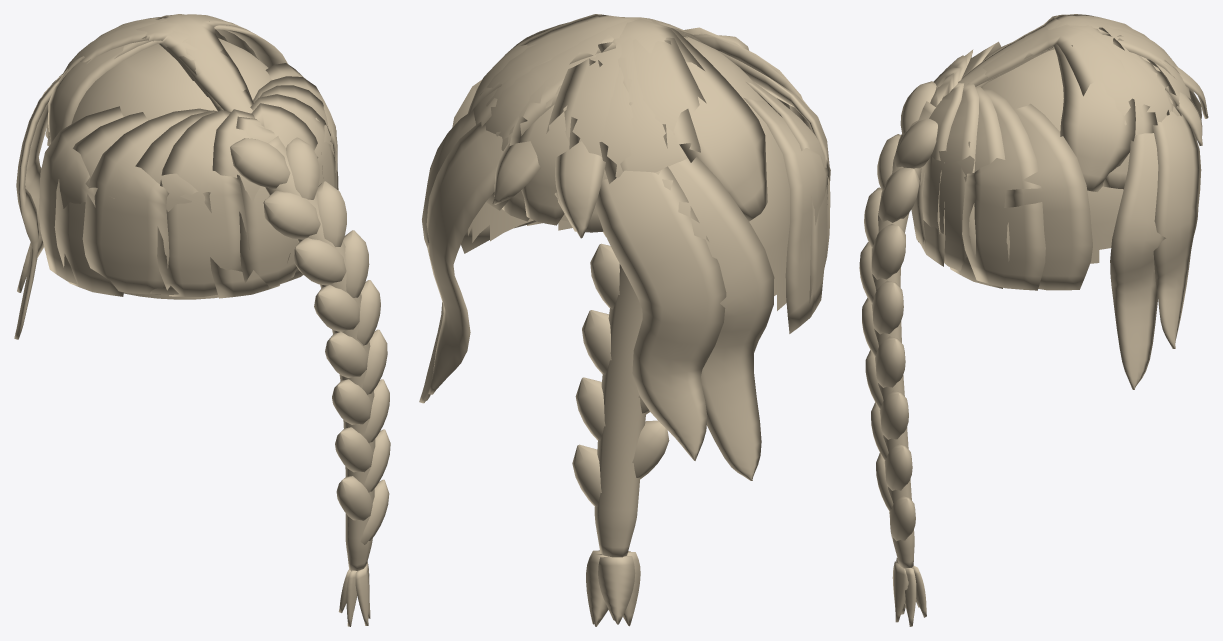
The model's file is aeli_hair.fbx.
The picture shows the model from 3 angles, left to right: view 1: azimuth 30°, elevation 25°; view 2: azimuth 150°, elevation 25°; view 3: azimuth 270°, elevation 25°; orthographic projection. The views are drawn at different scales.
Visible parts, largest first — view 1: AelidorHair; view 2: AelidorHair; view 3: AelidorHair.
Boxes of the visible parts, x1,y1,x2,y2 form: AelidorHair: (14,14,390,626); AelidorHair: (419,14,830,626); AelidorHair: (859,14,1208,626).
Bounding box in the file's own units: 167 × 326 × 188.
